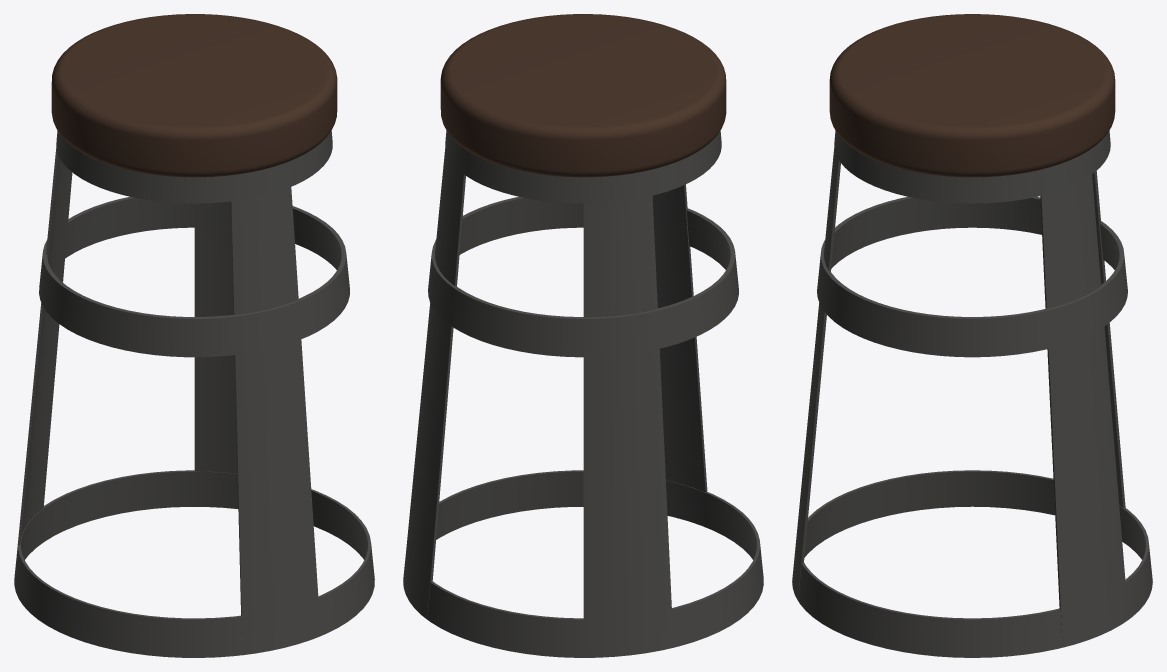
The picture shows the model from 3 angles, left to right: view 1: azimuth 30°, elevation 25°; view 2: azimuth 150°, elevation 25°; view 3: azimuth 270°, elevation 25°; orthographic projection.
Parts seen in each view (by area): view 1: stool; view 2: stool; view 3: stool.
Part boxes in pixels (x1,y1,x2,y2): stool: (14, 14, 374, 657); stool: (403, 14, 763, 657); stool: (792, 14, 1152, 657).
Size of the model in its own units: 0.48 by 0.75 by 0.48.
